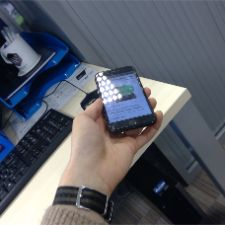focus: (117, 83, 139, 97)
